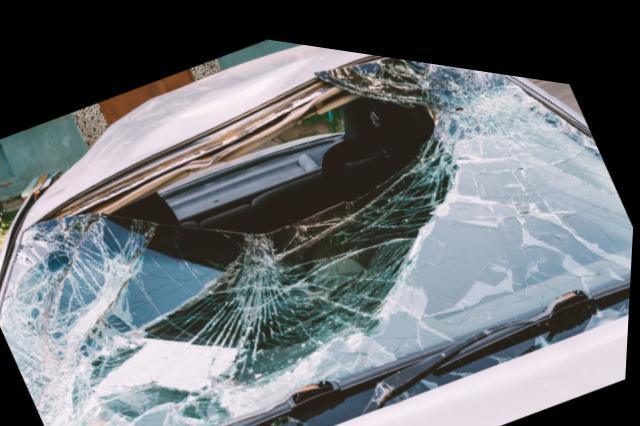dent: (133, 44, 327, 160)
glass shatter: (1, 44, 635, 426)
